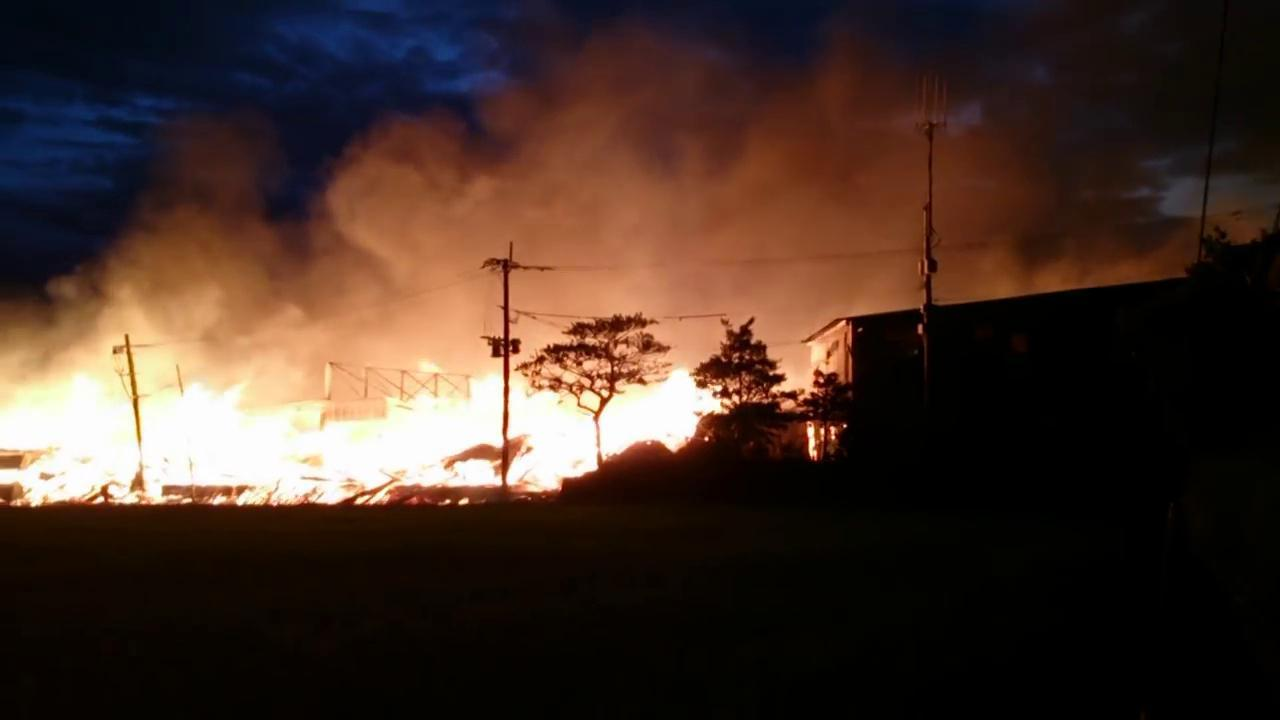Fire: (4, 340, 741, 504), (805, 423, 841, 463)
